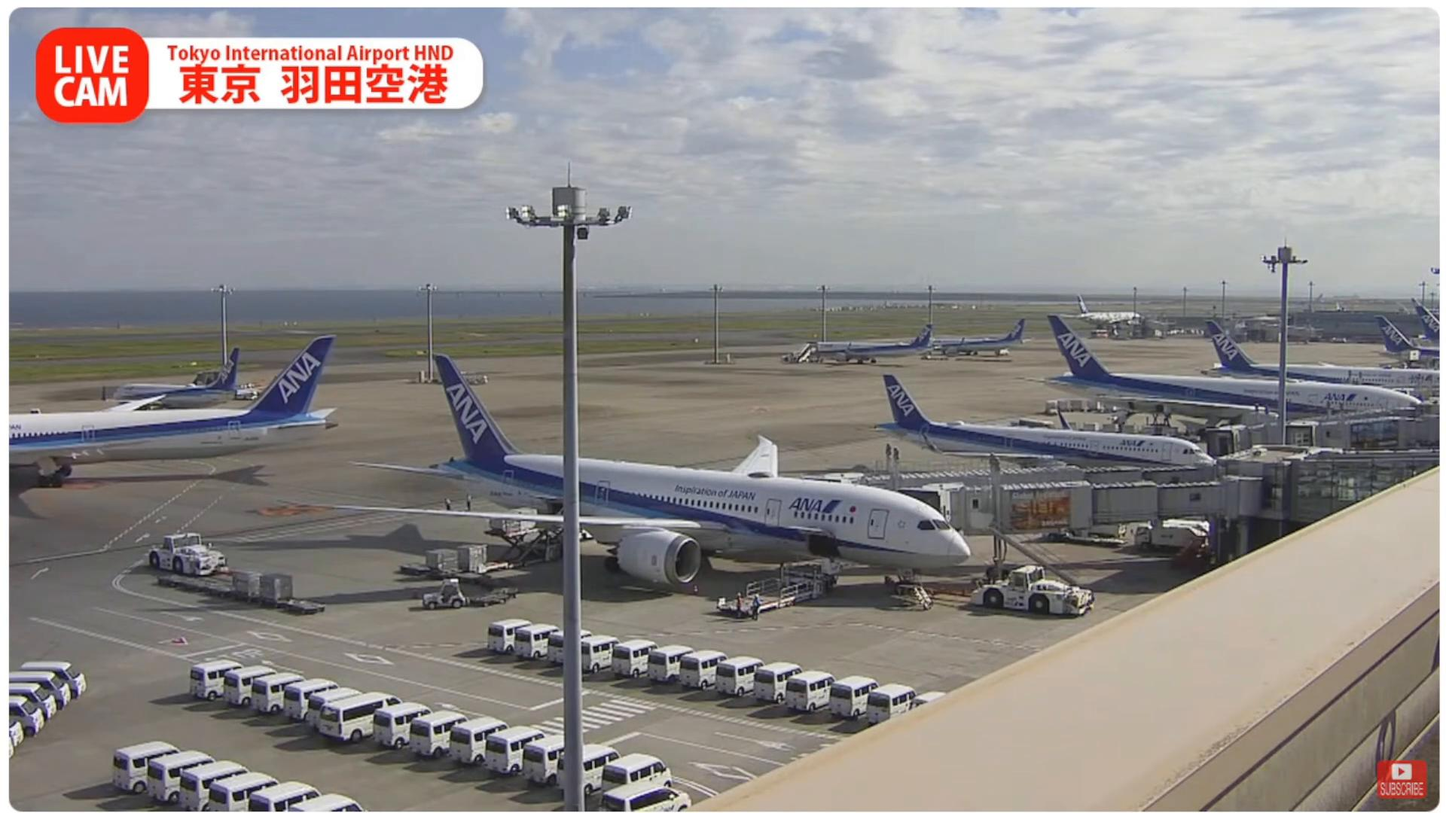APS: (969, 564, 1106, 619), (114, 529, 231, 577)
Aerobridge: (899, 476, 1264, 540), (843, 457, 1217, 496)
Airplane: (330, 354, 973, 599)
Dolly: (156, 566, 329, 618), (401, 540, 521, 605)
JCPL: (699, 546, 848, 617), (483, 505, 555, 571)
Tractor: (417, 575, 473, 610), (456, 553, 493, 584)
Window: (1290, 456, 1440, 523)
